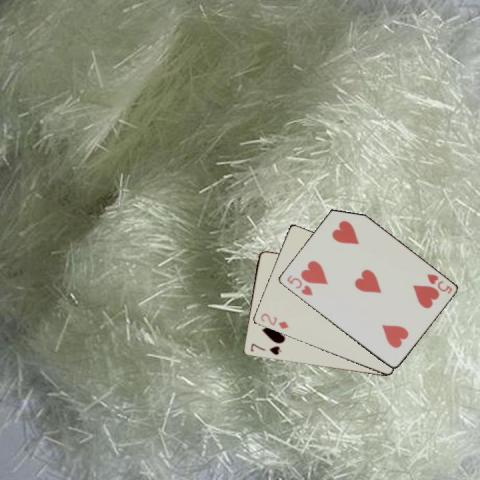2d: (258, 310, 290, 330)
5h: (283, 272, 314, 297), (424, 271, 454, 295)
7s: (247, 340, 283, 357)
